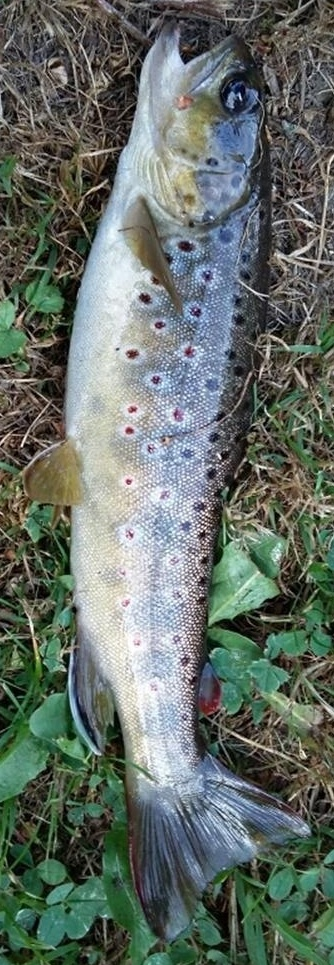Salmo trutta subsp. fario: (20, 20, 314, 945)
